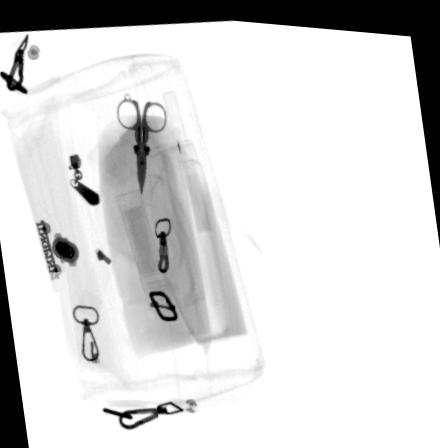Scissors: (114, 93, 164, 196)
